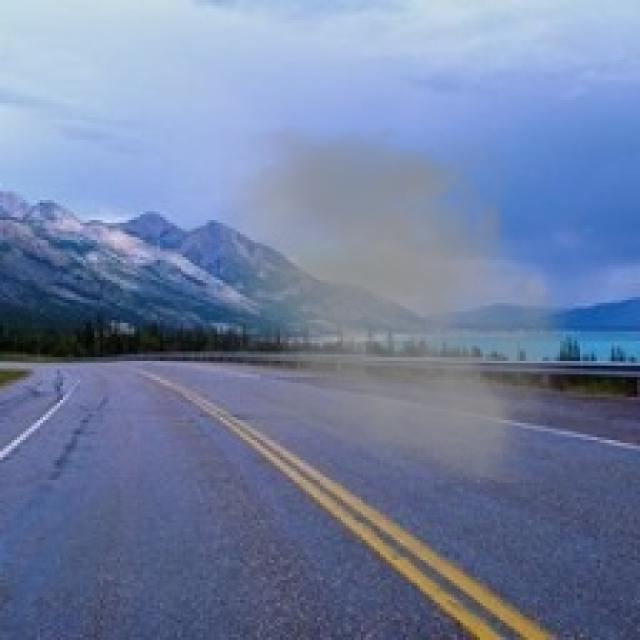Smoke: (220, 126, 586, 483)
